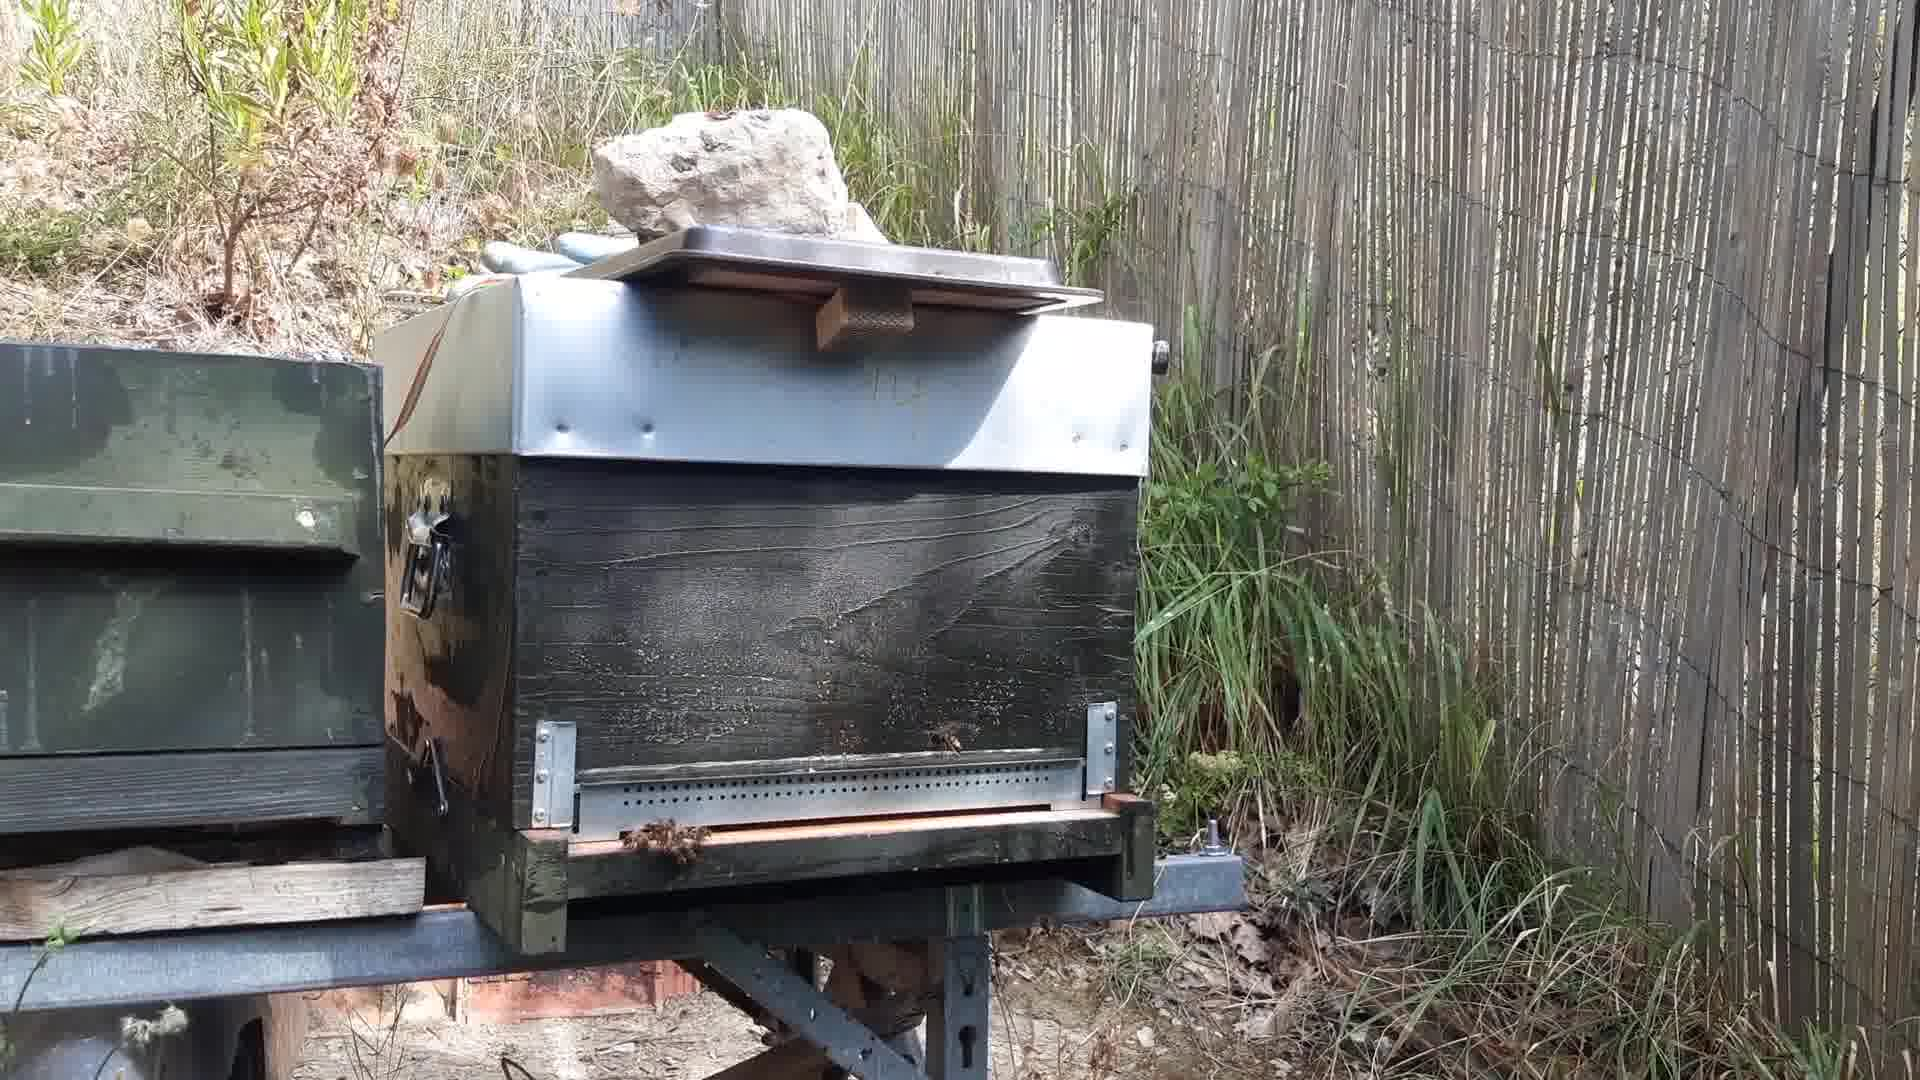bee: (618, 818, 717, 869)
hornet: (922, 716, 971, 765)
